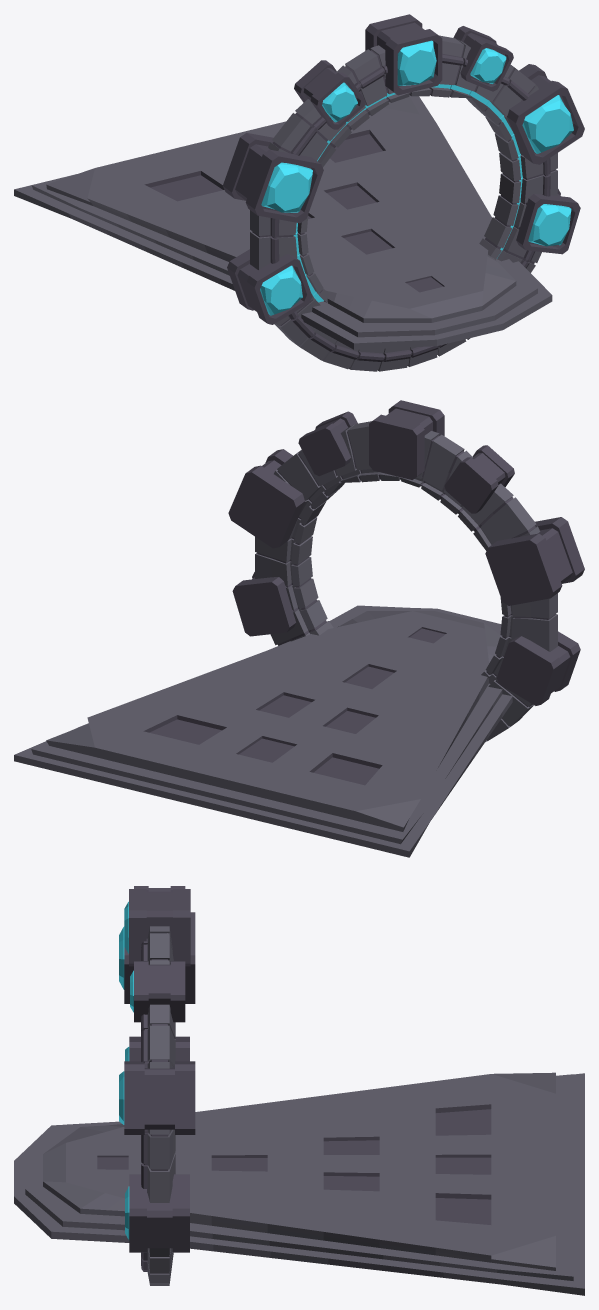
The model's file is ENV_Entry Gate.fbx.
3 renders of one model, top to bottom at view 1: azimuth 30°, elevation 25°; view 2: azimuth 150°, elevation 25°; view 3: azimuth 270°, elevation 25°, orthographic. The views are drawn at different scales.
Visible parts, largest first — view 1: Gate_Entry, Gate_Steps.Back, Gate_Steps.Front; view 2: Gate_Steps.Back, Gate_Entry, Gate_Steps.Front; view 3: Gate_Steps.Back, Gate_Entry, Gate_Steps.Front.
Part boxes in pixels (bbox=[...]): Gate_Entry: bbox=[223, 14, 584, 371]; Gate_Steps.Back: bbox=[14, 95, 491, 290]; Gate_Steps.Front: bbox=[301, 248, 552, 349]; Gate_Steps.Back: bbox=[14, 629, 512, 857]; Gate_Entry: bbox=[228, 400, 584, 741]; Gate_Steps.Front: bbox=[327, 605, 501, 669]; Gate_Steps.Back: bbox=[175, 1072, 584, 1295]; Gate_Entry: bbox=[119, 886, 195, 1285]; Gate_Steps.Front: bbox=[14, 1121, 141, 1242].
Size of the model in its own units: 1181 by 1322 by 940.
